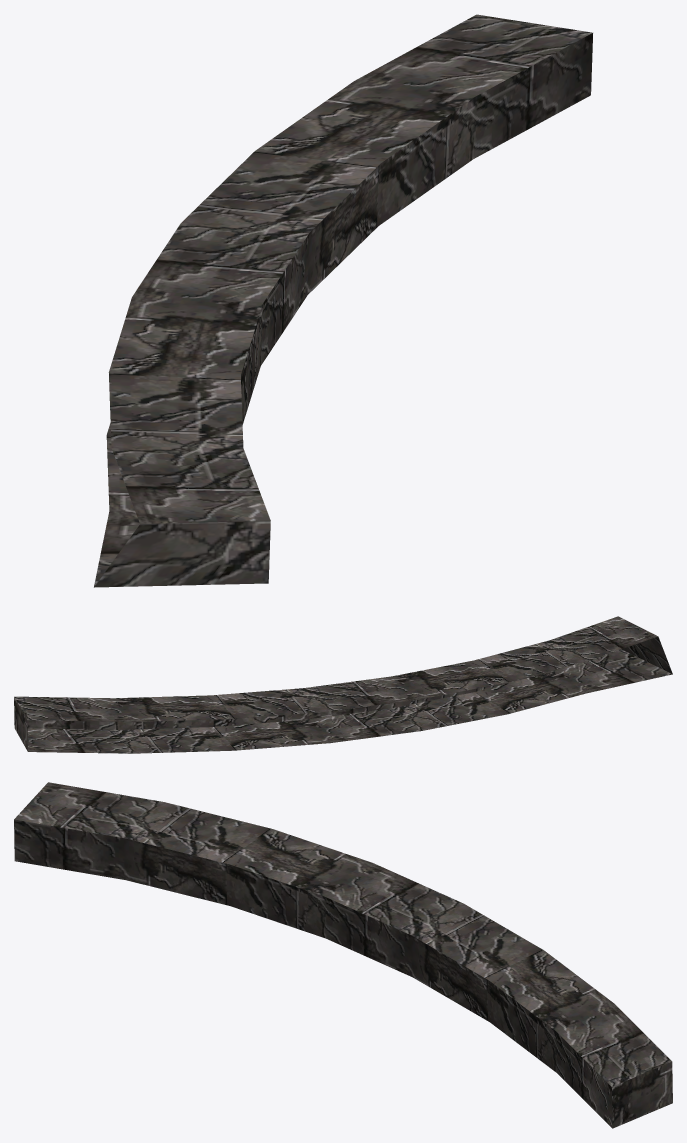
File: CH09_SMAUG_PLAYSURFACE_LAIR76.fbx
3 views of the same model, one above another, from view 1: azimuth 30°, elevation 25°; view 2: azimuth 150°, elevation 25°; view 3: azimuth 270°, elevation 25° (orthographic). The views are drawn at different scales.
Visible parts, largest first — view 1: CH09_SMAUG_PLAYSURFACE_LAIR76; view 2: CH09_SMAUG_PLAYSURFACE_LAIR76; view 3: CH09_SMAUG_PLAYSURFACE_LAIR76.
Boxes of the visible parts, x1,y1,x2,y2 form: CH09_SMAUG_PLAYSURFACE_LAIR76: (94, 14, 592, 587); CH09_SMAUG_PLAYSURFACE_LAIR76: (14, 616, 672, 753); CH09_SMAUG_PLAYSURFACE_LAIR76: (14, 782, 672, 1128).
Bounding box in the file's own units: 94280 × 8878 × 87793.
Materials: 1 (1 with a texture image).
